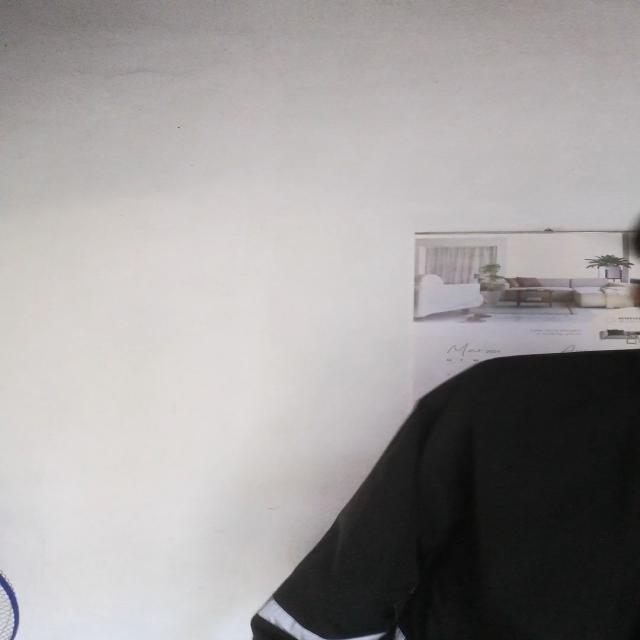Jacket_Wearer: (220, 315, 640, 640)
